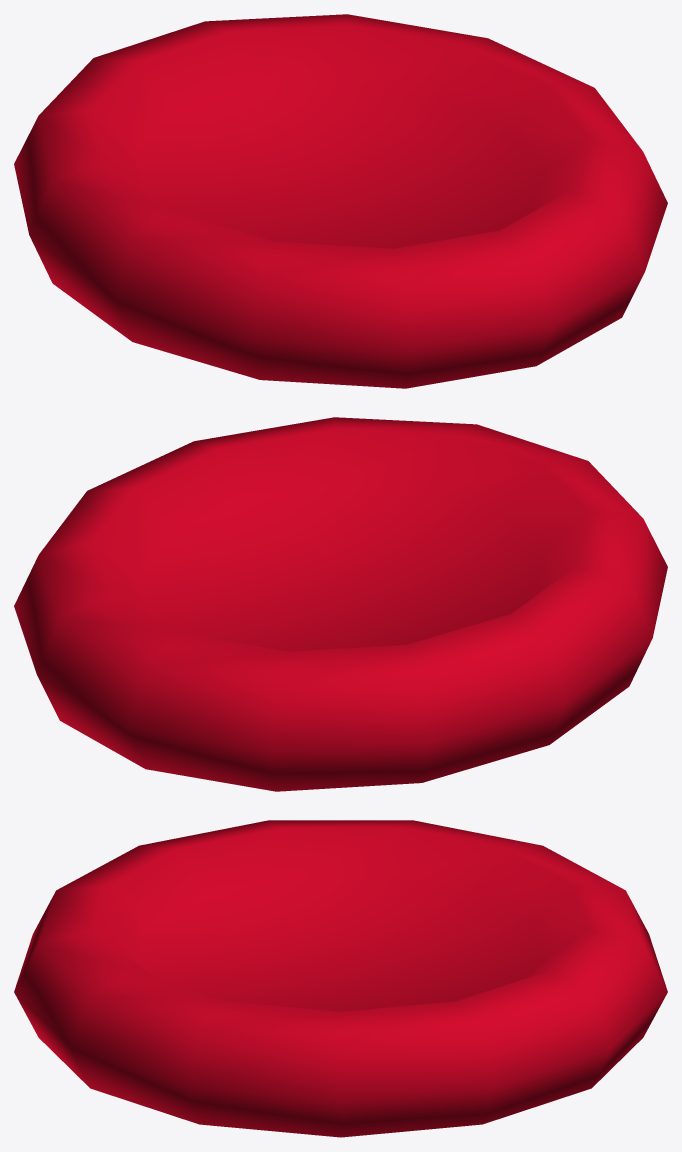
File: Bloedcel.fbx
3 renders of one model, top to bottom at view 1: azimuth 30°, elevation 25°; view 2: azimuth 150°, elevation 25°; view 3: azimuth 270°, elevation 25°, orthographic. The views are drawn at different scales.
Parts seen in each view (by area): view 1: Torus.002; view 2: Torus.002; view 3: Torus.002.
Boxes of the visible parts, x1,y1,x2,y2 form: Torus.002: (14, 14, 667, 388); Torus.002: (14, 417, 667, 791); Torus.002: (14, 820, 667, 1137).
Bounding box in the file's own units: 21725 × 4875 × 24818.
